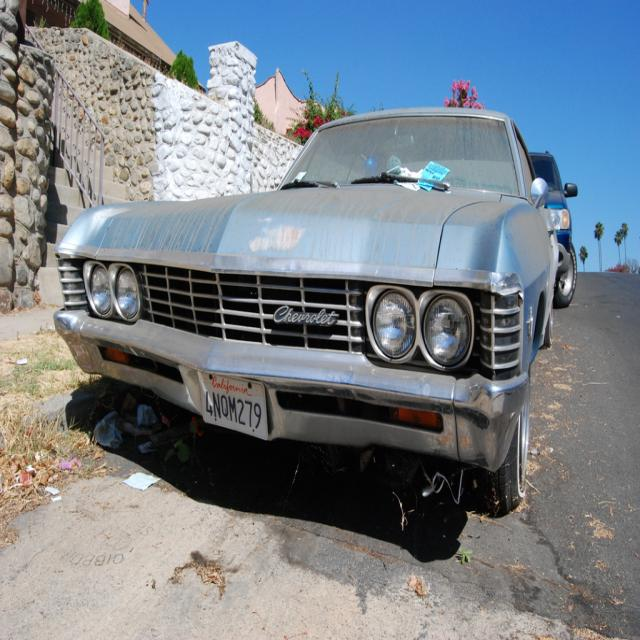car: (51, 98, 575, 516)
